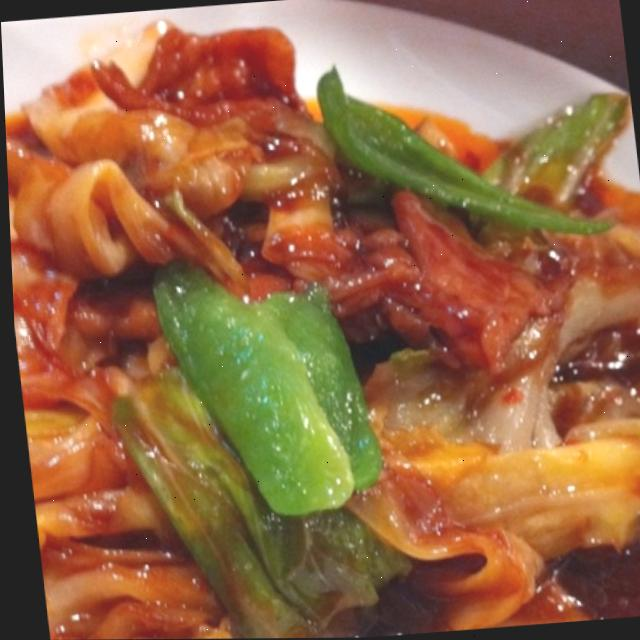米饭主食: (61, 176, 478, 640), (222, 43, 575, 458)
